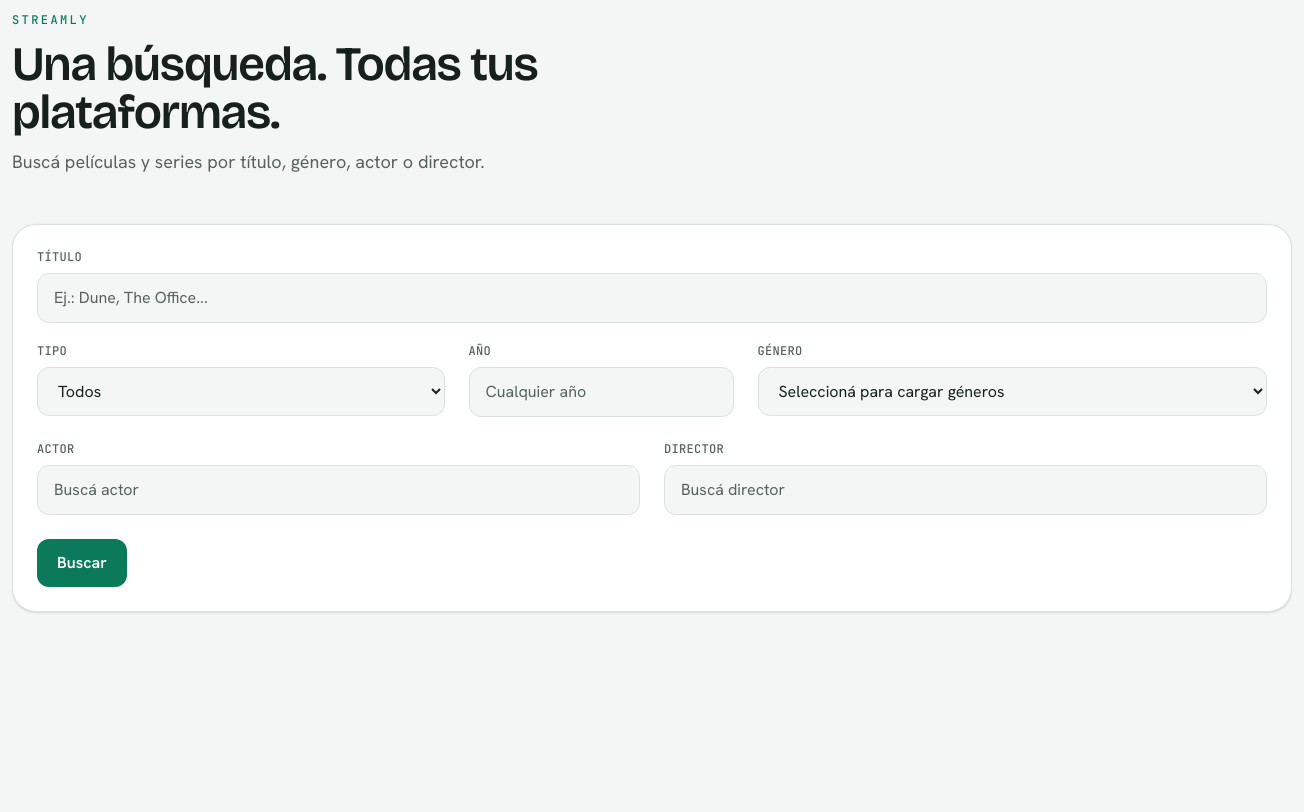
PaginaBusqueda › busca y muestra resultados con el contador
Type "Dune" into the search field labelled "Título".
click(652, 298); type("Dune")  # box x1=37 y1=273 x2=1267 y2=323
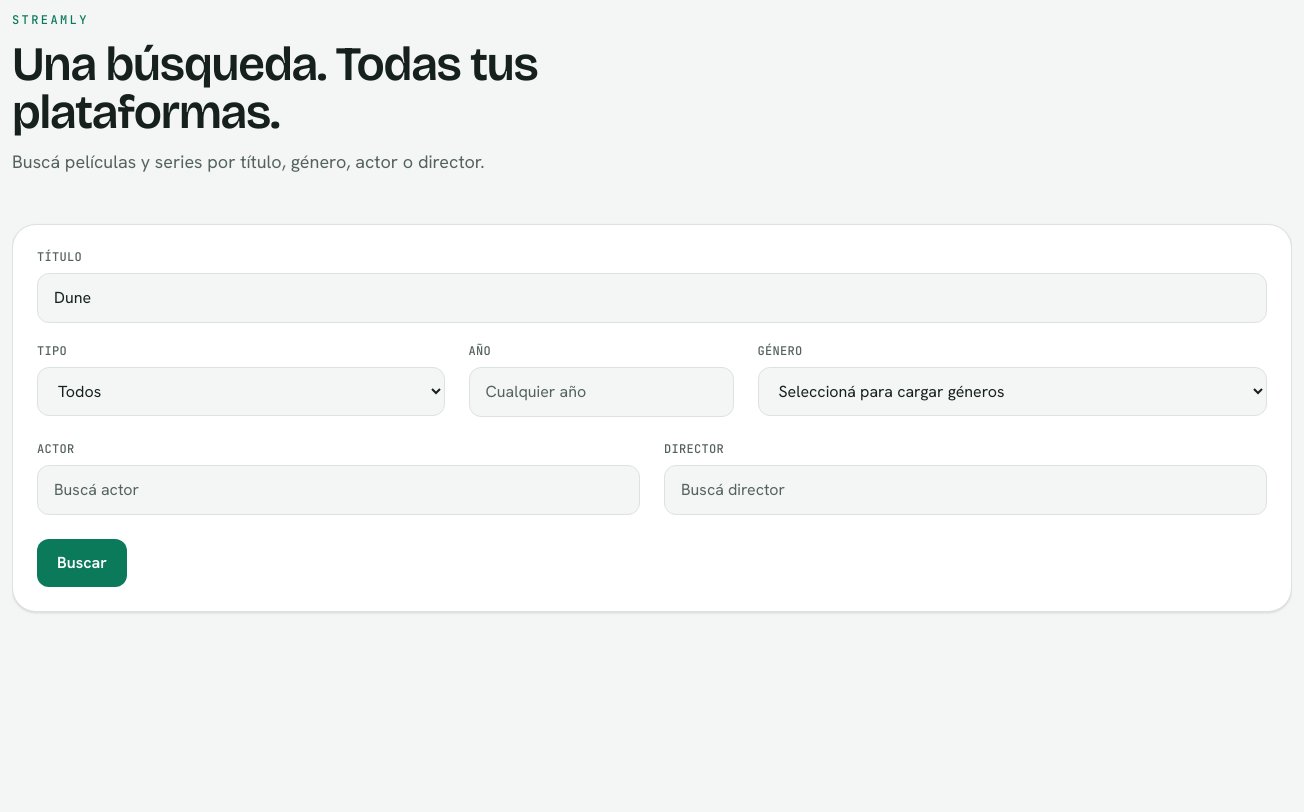
Click the button "Buscar".
click(82, 563)  # box x1=37 y1=539 x2=127 y2=587
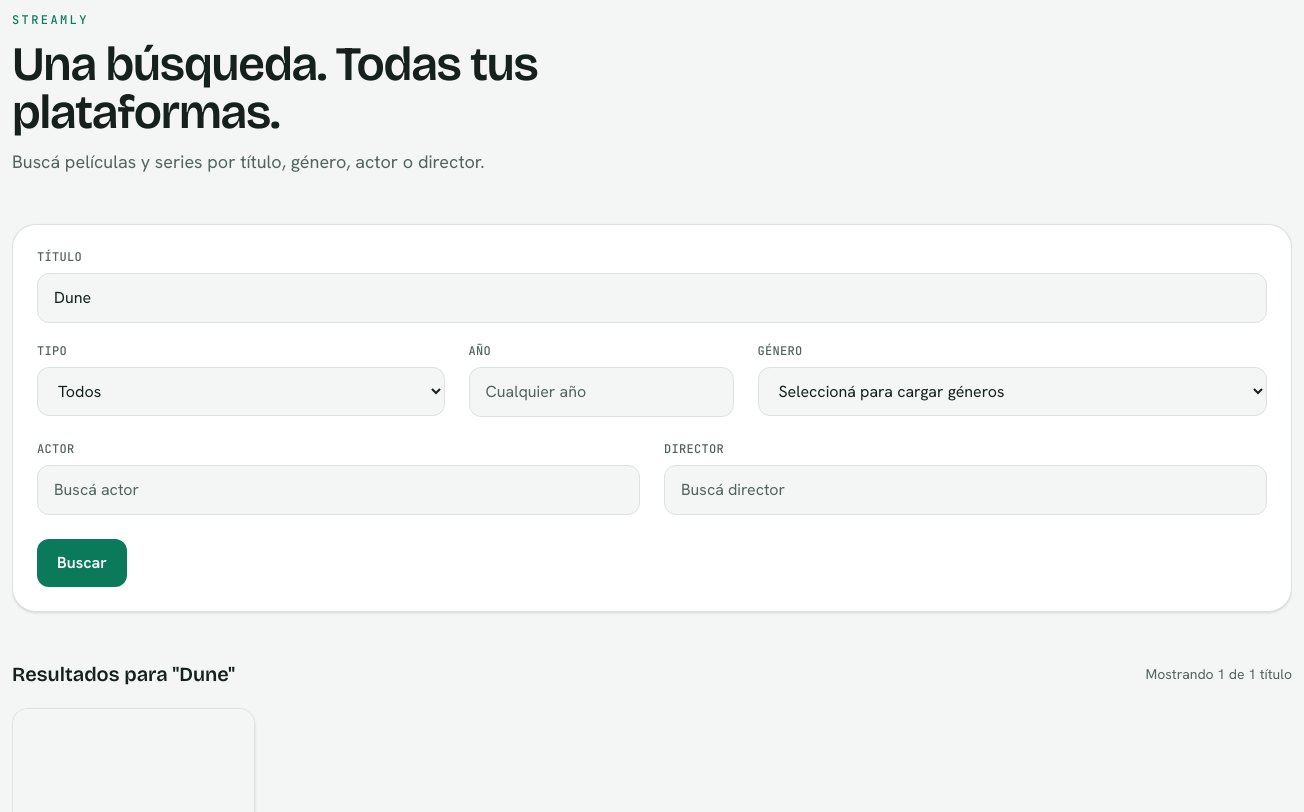
Expected: the heading "Resultados para \"Dune\"" is shown, x1=12 y1=660 x2=235 y2=688
Expected: the text "Mostrando 1 de 1 título" is shown, x1=1145 y1=664 x2=1292 y2=684
